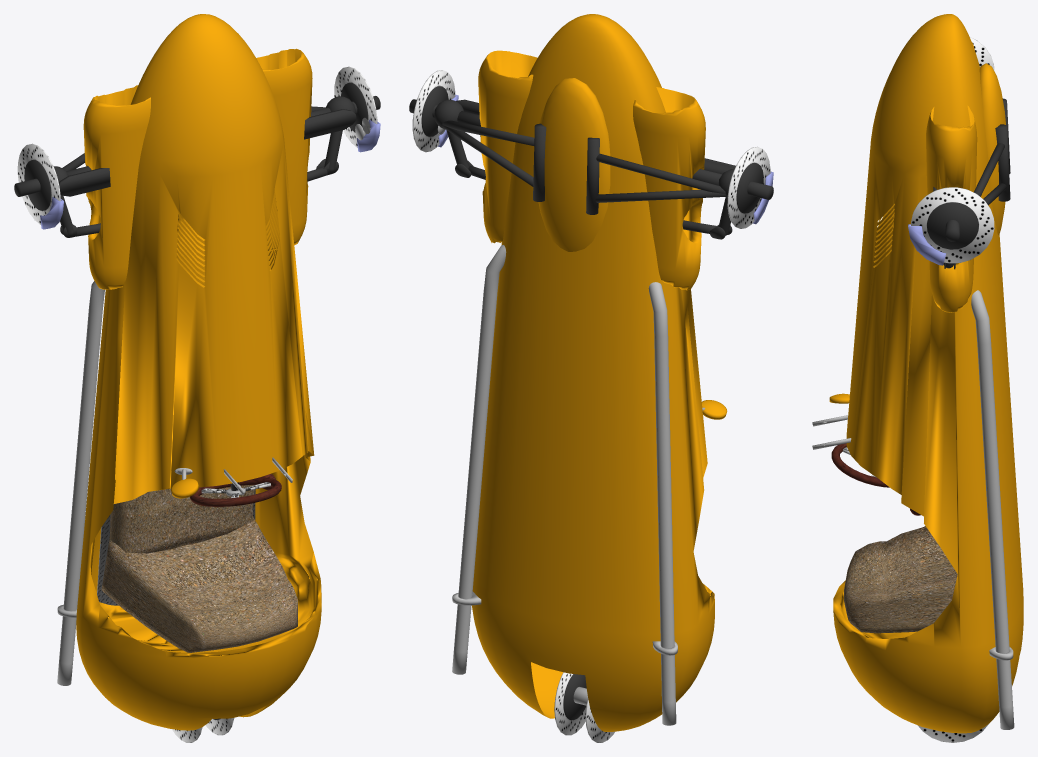
The model's file is 3wheelcar.obj.
3 views of the same model, side by side, from view 1: azimuth 30°, elevation 25°; view 2: azimuth 150°, elevation 25°; view 3: azimuth 270°, elevation 25° (orthographic).
Parts seen in each view (by area): view 1: Boite38_Сіть.004; view 2: Boite38_Сіть.004; view 3: Boite38_Сіть.004.
Boxes of the visible parts, x1,y1,x2,y2 form: Boite38_Сіть.004: (14,14,380,742); Boite38_Сіть.004: (409,14,773,742); Boite38_Сіть.004: (812,14,1023,742).
Bounding box in the file's own units: 1.24 × 2.38 × 0.6653.
15 materials, 15 textured.
